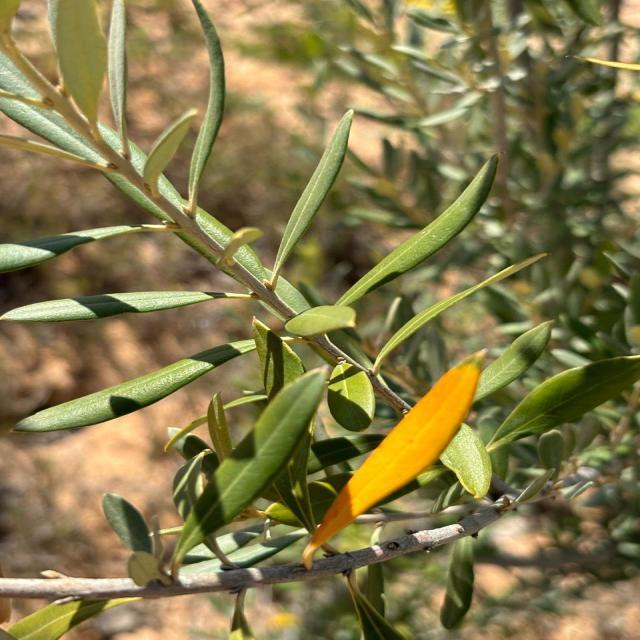OlivePeacockSpot: (303, 350, 486, 569)
